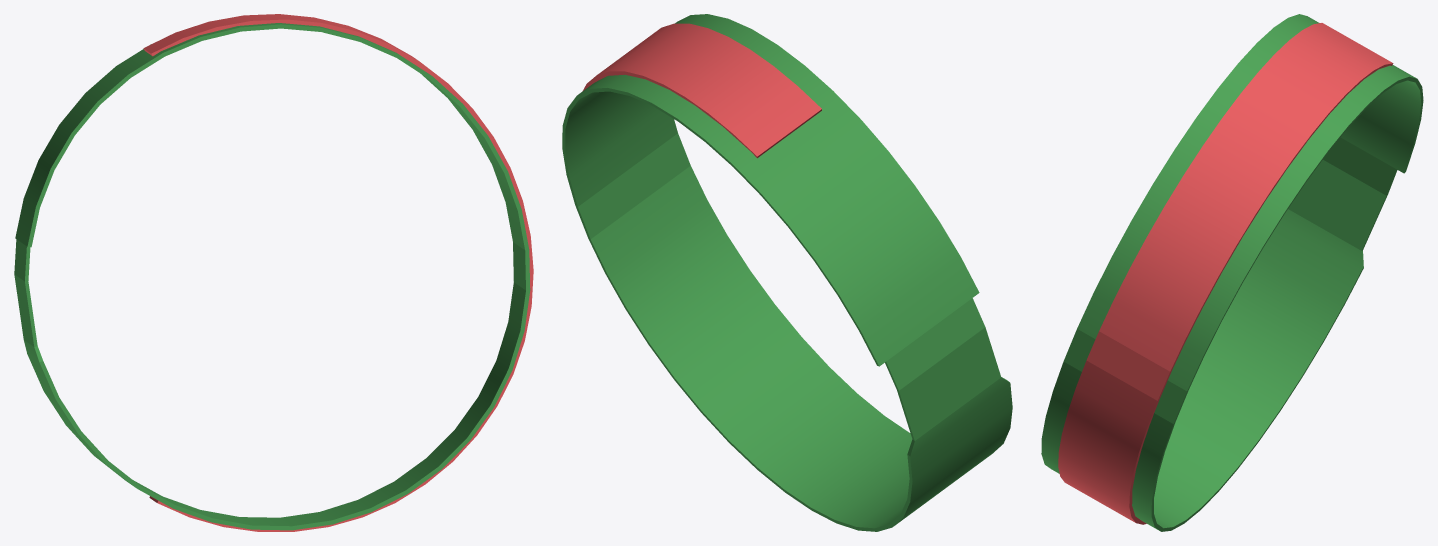
File: wristbandnew2.glb
The picture shows the model from 3 angles, left to right: view 1: azimuth 30°, elevation 25°; view 2: azimuth 150°, elevation 25°; view 3: azimuth 270°, elevation 25°; orthographic projection. The views are drawn at different scales.
Parts seen in each view (by area): view 1: Mainarea, Printarea; view 2: Mainarea, Printarea; view 3: Mainarea, Printarea.
Part boxes in pixels (<box>): Mainarea: <box>14,23,530,530</box>; Printarea: <box>143,14,533,531</box>; Mainarea: <box>562,14,1012,531</box>; Printarea: <box>582,23,821,158</box>; Mainarea: <box>1041,14,1423,531</box>; Printarea: <box>1058,23,1393,524</box>.
Bounding box in the file's own units: 2.07 × 2.08 × 1.49.
